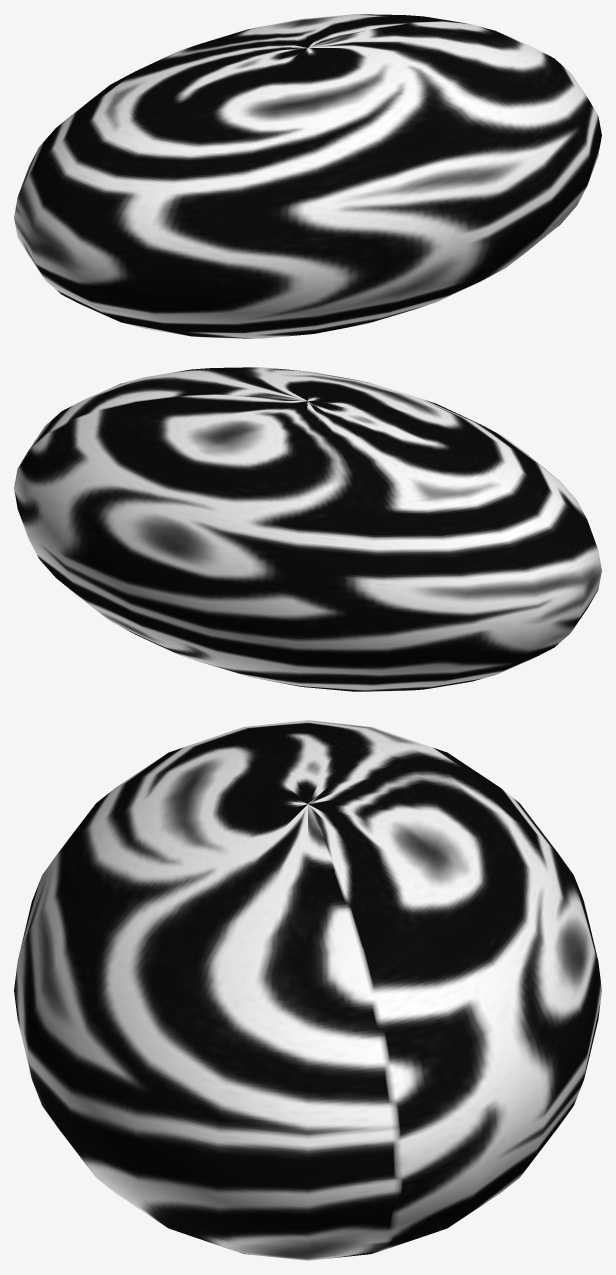
The model's file is GoodVibe-emptyShield.fbx.
3 renders of one model, top to bottom at view 1: azimuth 30°, elevation 25°; view 2: azimuth 150°, elevation 25°; view 3: azimuth 270°, elevation 25°, orthographic. The views are drawn at different scales.
Parts seen in each view (by area): view 1: pSphere2; view 2: pSphere2; view 3: pSphere2.
Part boxes in pixels (x1,y1,x2,y2): pSphere2: (14, 14, 601, 338); pSphere2: (14, 367, 601, 691); pSphere2: (14, 720, 601, 1260).
Size of the model in its own units: 26.88 by 11.93 by 17.05.
Materials: 3 (2 with a texture image).
